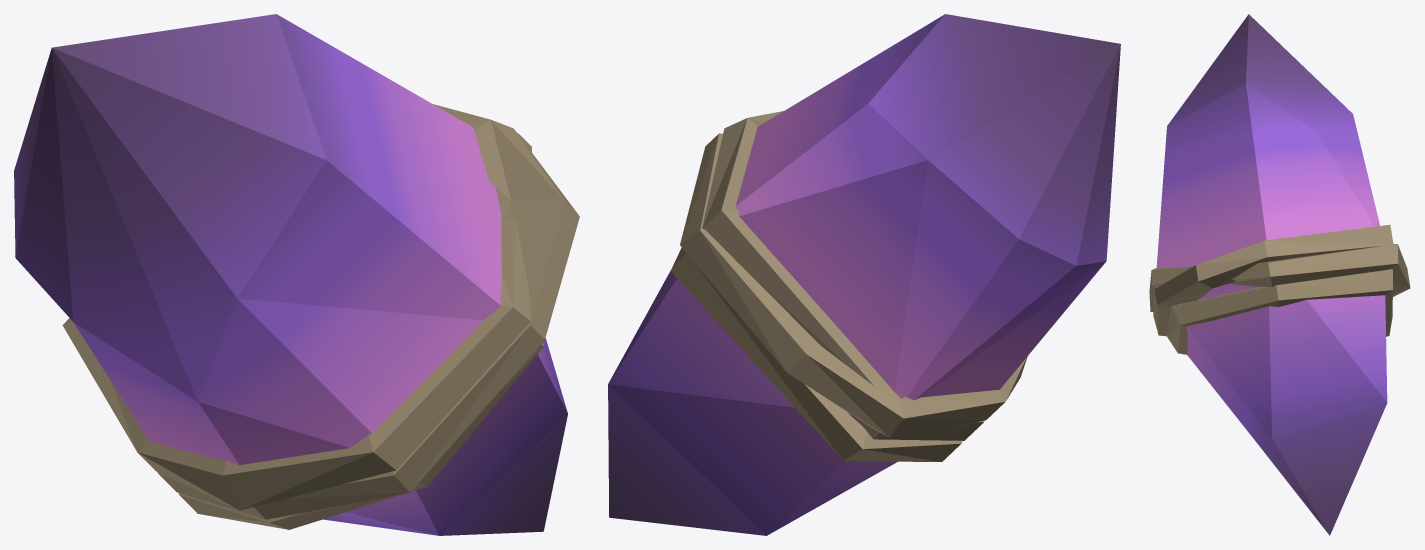
File: trinketCrystal2.fbx
The picture shows the model from 3 angles, left to right: view 1: azimuth 30°, elevation 25°; view 2: azimuth 150°, elevation 25°; view 3: azimuth 270°, elevation 25°; orthographic projection. The views are drawn at different scales.
Parts seen in each view (by area): view 1: trinketCrystal2; view 2: trinketCrystal2; view 3: trinketCrystal2.
Boxes of the visible parts, x1=… form: trinketCrystal2: x1=14, y1=14, x2=579, y2=535; trinketCrystal2: x1=608, y1=14, x2=1120, y2=535; trinketCrystal2: x1=1149, y1=14, x2=1410, y2=535.
Bounding box in the file's own units: 1.22 × 1.39 × 0.8864.
